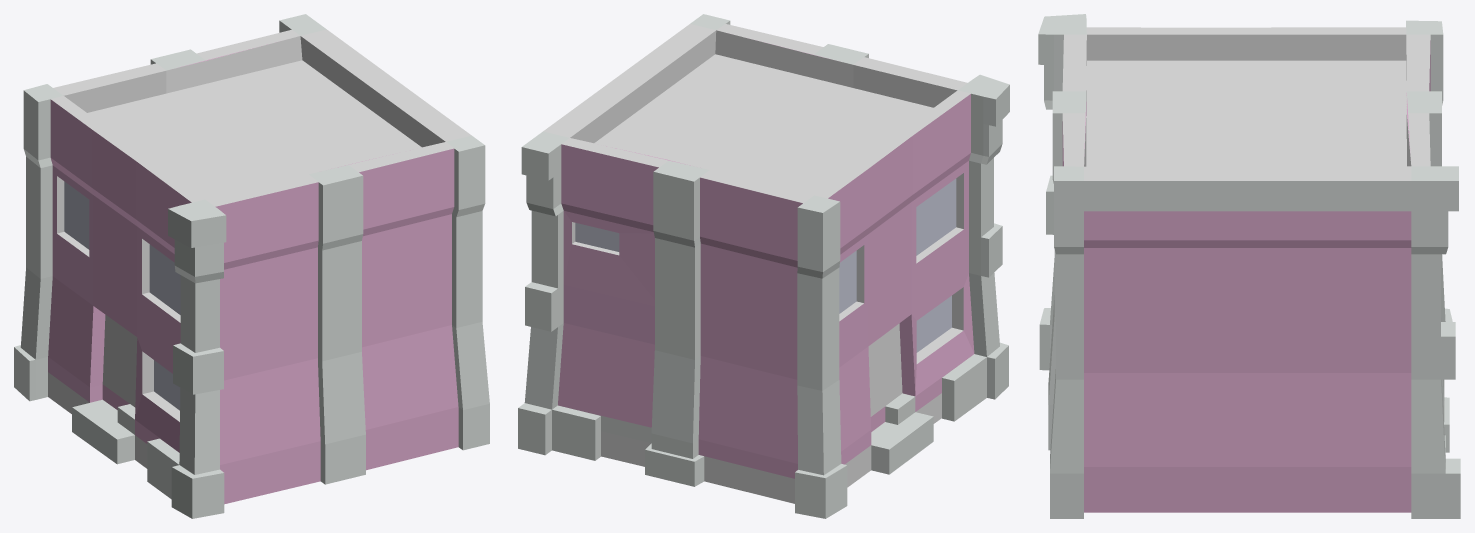
Rendered from RMK Modelo TOON Casinha Laje 1.fbx.
3 views of the same model, side by side, from view 1: azimuth 30°, elevation 25°; view 2: azimuth 150°, elevation 25°; view 3: azimuth 270°, elevation 25° (orthographic). The views are drawn at different scales.
Visible parts, largest first — view 1: Cube; view 2: Cube; view 3: Cube.
Boxes of the visible parts, box(x1,y1,x2,y2) form: Cube: box(14, 14, 489, 518); Cube: box(518, 14, 1009, 518); Cube: box(1038, 14, 1460, 518).
Bounding box in the file's own units: 213 × 198 × 225.
1 material, 1 textured.
